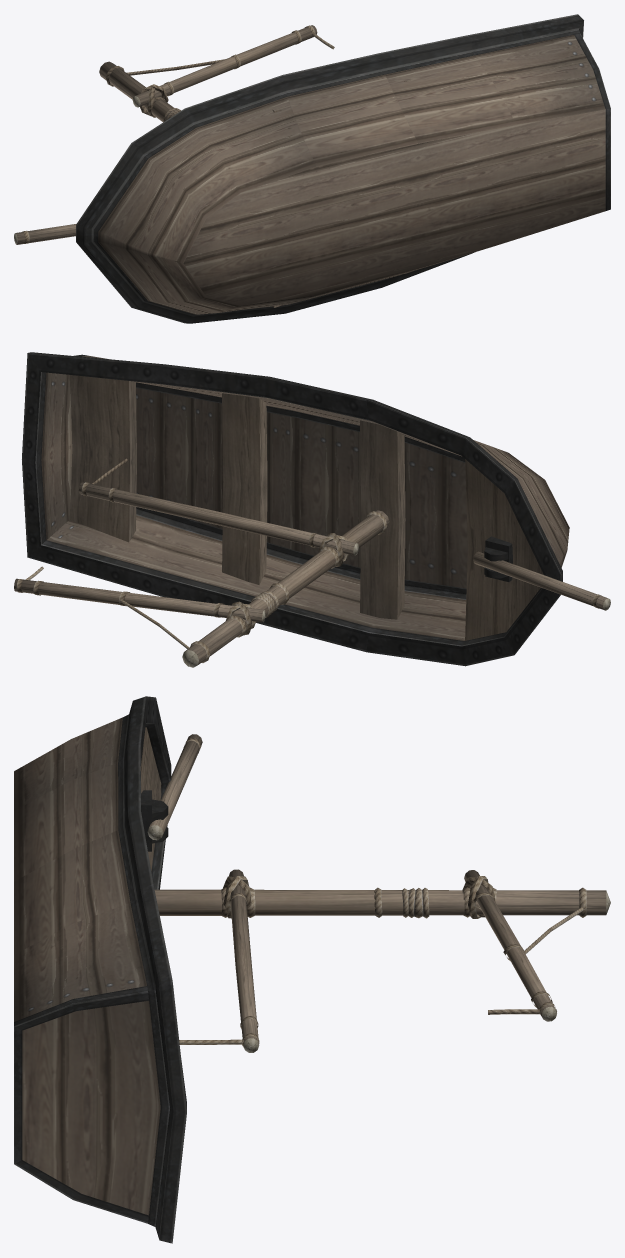
The model's file is Boat_Sail_A.fbx.
3 views of the same model, one above another, from view 1: azimuth 30°, elevation 25°; view 2: azimuth 150°, elevation 25°; view 3: azimuth 270°, elevation 25° (orthographic). The views are drawn at different scales.
Visible parts, largest first — view 1: Boat_Sail_A; view 2: Boat_Sail_A; view 3: Boat_Sail_A.
Boxes of the visible parts, x1=… form: Boat_Sail_A: x1=14, y1=14, x2=610, y2=323; Boat_Sail_A: x1=14, y1=352, x2=610, y2=667; Boat_Sail_A: x1=14, y1=696, x2=610, y2=1243.
Bounding box in the file's own units: 13.72 × 5.61 × 9.32.
